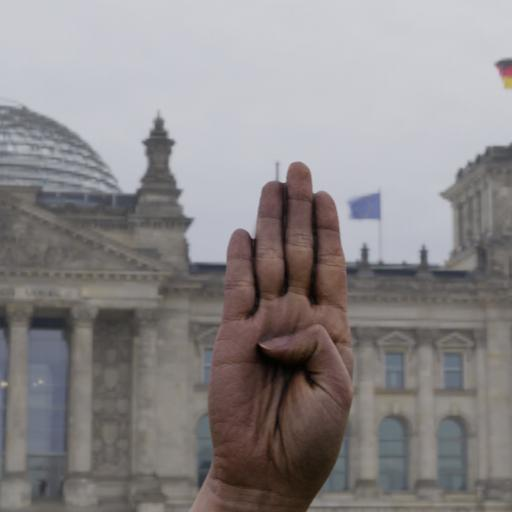B: (201, 156, 366, 512)
